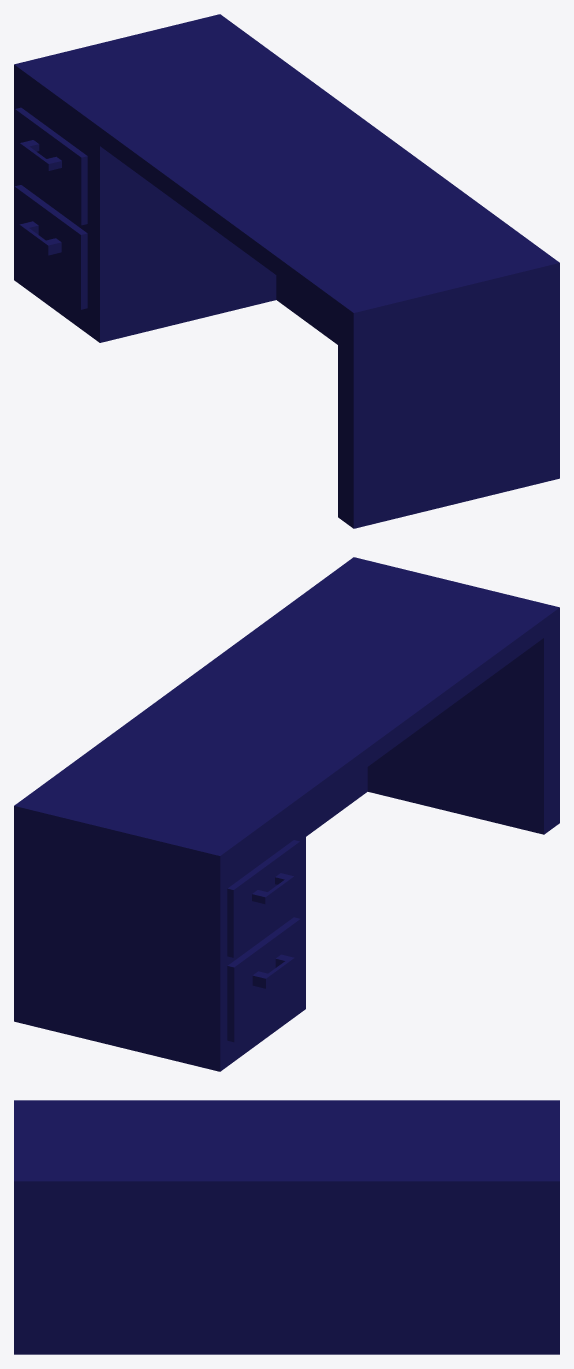
The model's file is Desk.obj.
3 views of the same model, one above another, from view 1: azimuth 30°, elevation 25°; view 2: azimuth 150°, elevation 25°; view 3: azimuth 270°, elevation 25° (orthographic). The views are drawn at different scales.
Parts seen in each view (by area): view 1: pCube8; view 2: pCube8; view 3: pCube8.
Boxes of the visible parts, bbox=[...] form: pCube8: bbox=[14, 14, 559, 528]; pCube8: bbox=[14, 557, 559, 1071]; pCube8: bbox=[14, 1100, 559, 1354].
Size of the model in its own units: 5.37 by 4.89 by 13.97.
